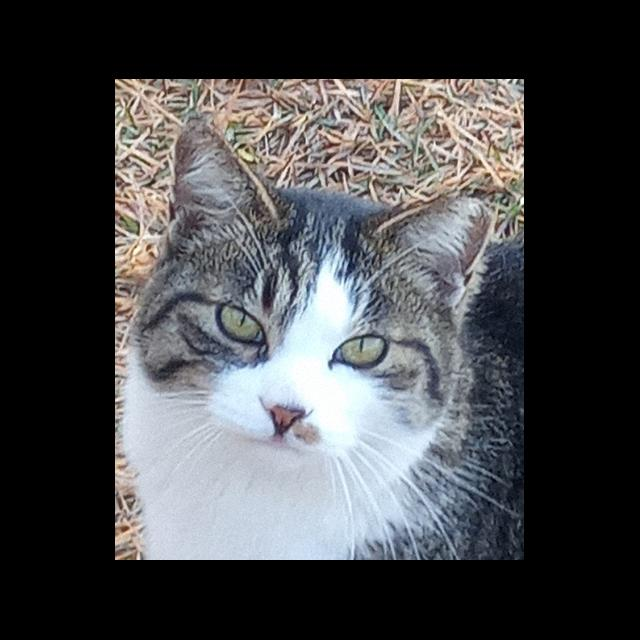animals: (136, 115, 495, 488)
